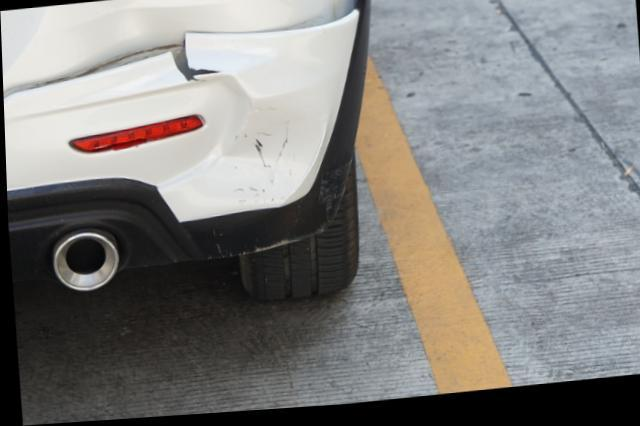crack: (170, 47, 224, 85)
dent: (193, 82, 321, 206), (64, 0, 227, 55)
